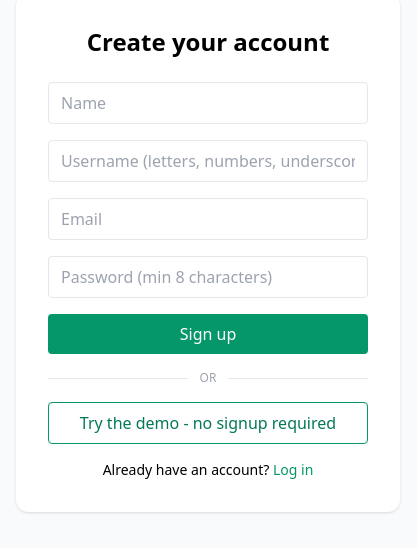
Test case: SignupPage › shows the server's message when the demo can't be started
Click the button "Try the demo - no signup required". click: (208, 423)
box: [48, 402, 368, 444]
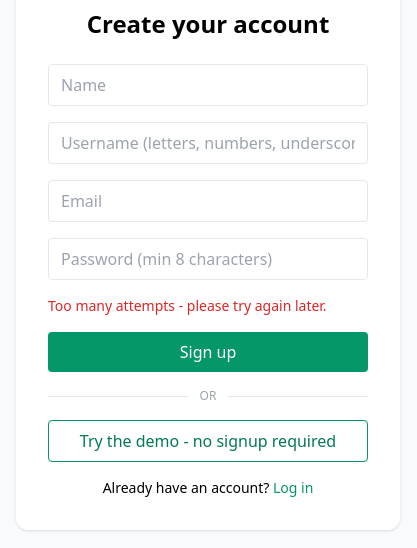
Result: the text "Too many attempts - please try again later." is shown at [48, 296, 368, 316]
